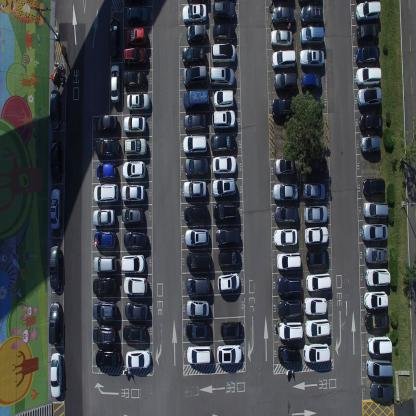car: (183, 87, 210, 112), (210, 65, 236, 88), (182, 64, 208, 87), (357, 85, 383, 108), (49, 243, 61, 291), (211, 175, 236, 198), (92, 324, 118, 346), (93, 182, 119, 204), (122, 68, 148, 90), (355, 0, 381, 22), (48, 301, 61, 345), (49, 186, 62, 230), (185, 250, 212, 271), (303, 342, 330, 363), (50, 352, 62, 398), (217, 342, 242, 364), (212, 200, 237, 222), (125, 300, 150, 322), (185, 274, 210, 296), (123, 45, 148, 67), (299, 46, 324, 68), (299, 24, 324, 46), (125, 349, 151, 370), (122, 137, 148, 158), (210, 42, 236, 63), (271, 97, 297, 118), (304, 316, 331, 336), (122, 113, 146, 135), (212, 108, 236, 130), (274, 71, 298, 93), (271, 4, 295, 26), (50, 138, 62, 182), (215, 225, 240, 246), (184, 227, 209, 248), (276, 249, 301, 270), (277, 274, 302, 295), (303, 224, 328, 245), (123, 275, 148, 296), (182, 3, 207, 24), (185, 320, 211, 340), (186, 344, 212, 364), (210, 134, 236, 154), (92, 276, 118, 296), (92, 302, 118, 322), (366, 358, 392, 378), (95, 138, 121, 158), (182, 134, 208, 154), (270, 49, 296, 69), (365, 268, 391, 288), (355, 66, 381, 86), (183, 111, 206, 133), (212, 0, 235, 22), (359, 133, 381, 156), (274, 226, 298, 247), (94, 113, 118, 134), (108, 17, 120, 59), (273, 203, 298, 223), (277, 298, 302, 318), (272, 182, 297, 202), (363, 290, 388, 310), (184, 157, 209, 177), (93, 254, 118, 274), (120, 183, 145, 203), (121, 160, 146, 180), (305, 272, 331, 291), (366, 335, 392, 354), (362, 223, 388, 242), (362, 200, 388, 219), (49, 89, 61, 130), (274, 156, 296, 178), (213, 88, 235, 110), (300, 71, 322, 93), (184, 202, 207, 223), (300, 4, 323, 25), (362, 176, 385, 197), (356, 22, 379, 43), (303, 295, 327, 315), (303, 203, 327, 223), (92, 208, 116, 228), (370, 380, 394, 400), (277, 344, 301, 364), (217, 272, 241, 292), (123, 230, 147, 250), (120, 206, 144, 226), (126, 92, 150, 112), (359, 112, 383, 132), (355, 44, 379, 64), (278, 321, 303, 340), (122, 324, 147, 343), (364, 246, 389, 265), (120, 254, 146, 272), (95, 350, 121, 368), (96, 160, 117, 182), (218, 247, 241, 267), (302, 181, 325, 201), (94, 229, 117, 249), (186, 298, 209, 318), (182, 43, 205, 63), (212, 155, 236, 174), (212, 23, 236, 42), (110, 63, 121, 104), (306, 247, 328, 267), (186, 22, 206, 44), (183, 180, 206, 199), (126, 5, 149, 24), (303, 158, 327, 176), (364, 311, 388, 329), (270, 28, 292, 47), (221, 320, 244, 338), (126, 26, 148, 44)
